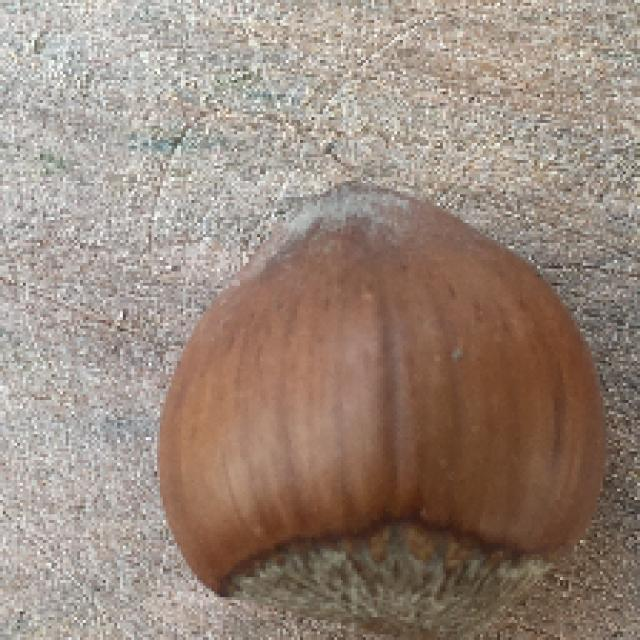qualityHazelnut: (163, 183, 614, 640)
